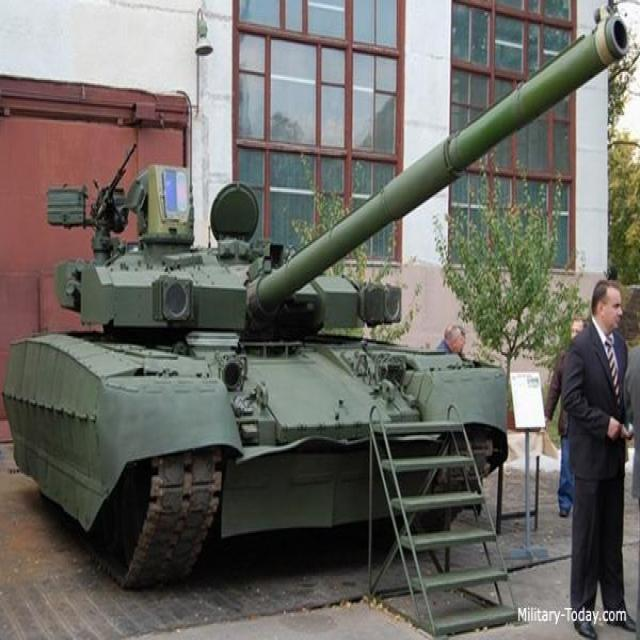Tanks: (5, 135, 527, 638)
